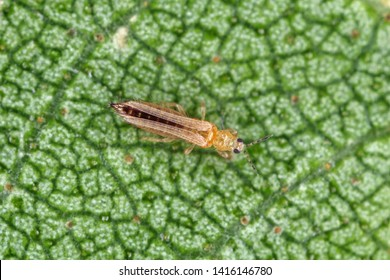Thrips: (108, 94, 257, 175)
